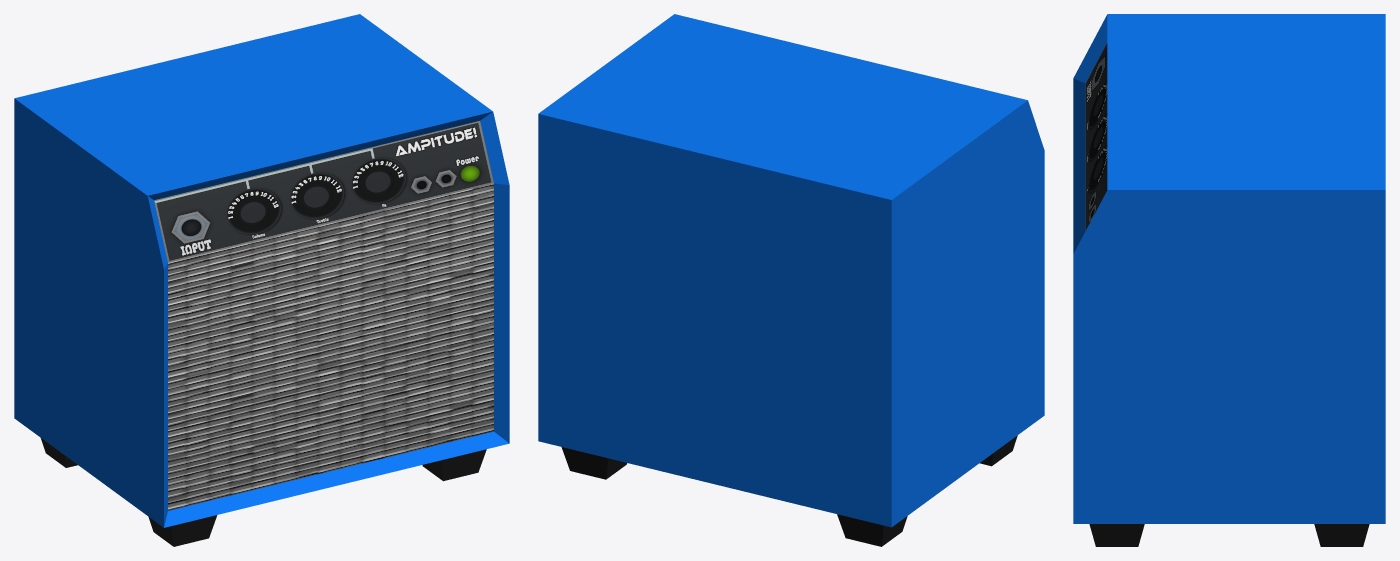
File: Amp_G.FBX
3 views of the same model, side by side, from view 1: azimuth 30°, elevation 25°; view 2: azimuth 150°, elevation 25°; view 3: azimuth 270°, elevation 25° (orthographic). The views are drawn at different scales.
Visible parts, largest first — view 1: Amp; view 2: Amp; view 3: Amp.
Boxes of the visible parts, x1=… form: Amp: x1=14, y1=14, x2=509, y2=546; Amp: x1=538, y1=14, x2=1044, y2=546; Amp: x1=1073, y1=14, x2=1385, y2=546.
Bounding box in the file's own units: 55.04 × 53.57 × 41.28.
